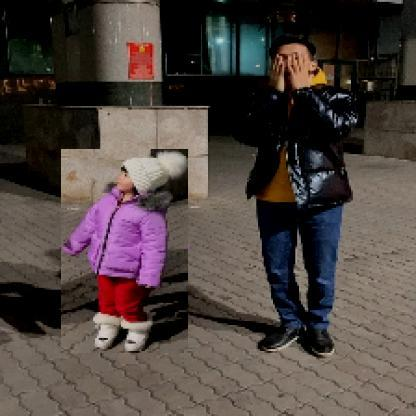child: (63, 150, 191, 355)
